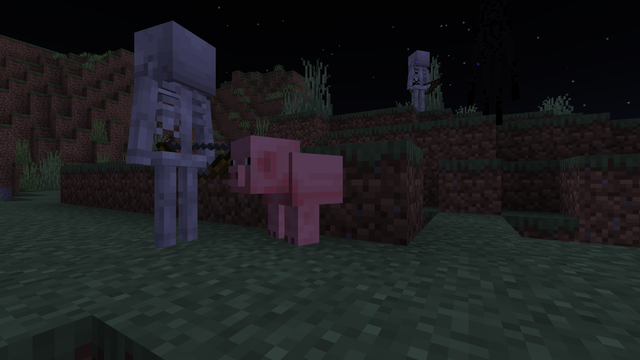cochons: (257, 148, 351, 248)
endermens: (477, 0, 508, 123)
squelettes: (127, 15, 222, 254), (408, 48, 429, 111)
